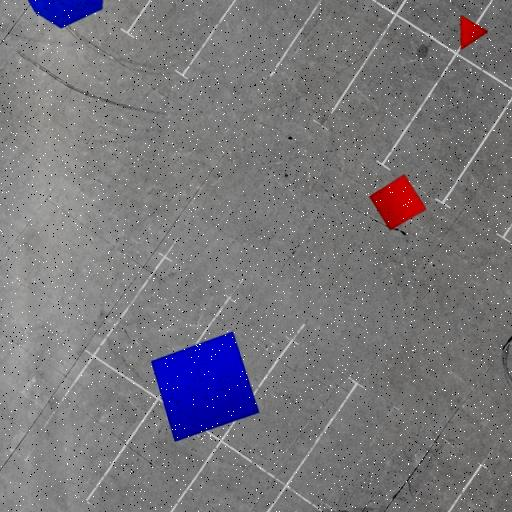BLUE_SQUARE: (150, 332, 260, 442)
RED_SQUARE: (369, 174, 427, 231)
